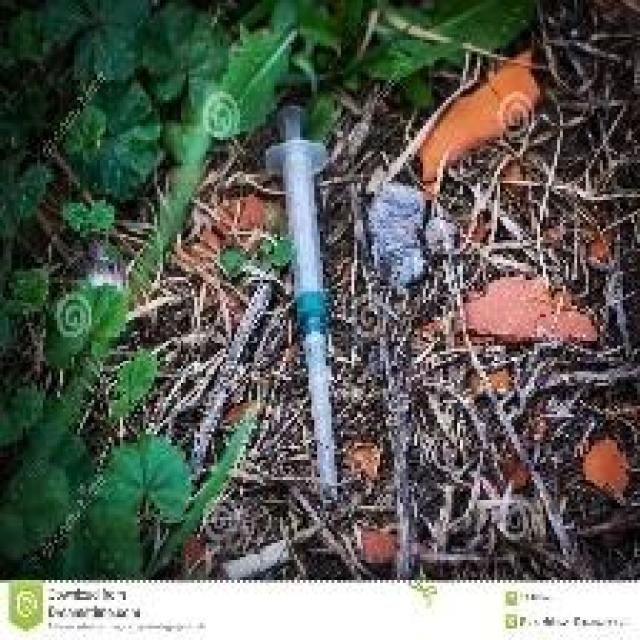syringe: (250, 76, 378, 531)
